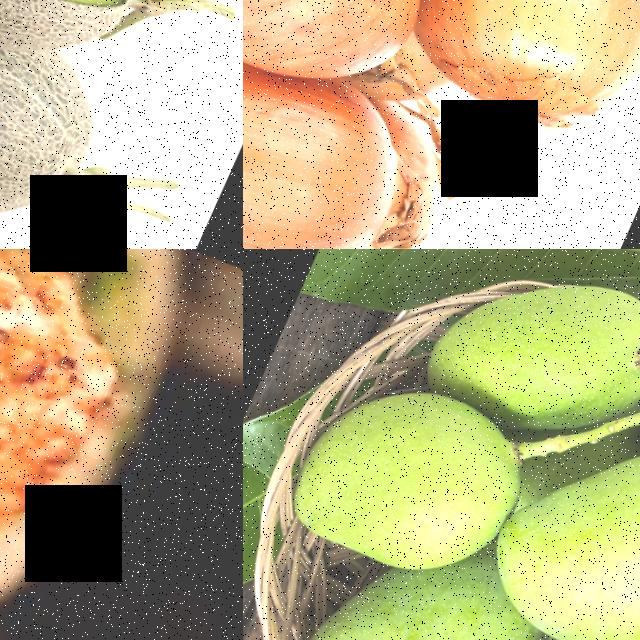lobster tails: (0, 249, 175, 640)
mango: (279, 353, 549, 606), (419, 249, 640, 468), (465, 396, 640, 640), (277, 543, 558, 640)
melon: (0, 1, 124, 249), (0, 0, 203, 94)
onion: (243, 8, 468, 249), (394, 0, 640, 169), (243, 0, 460, 121)
